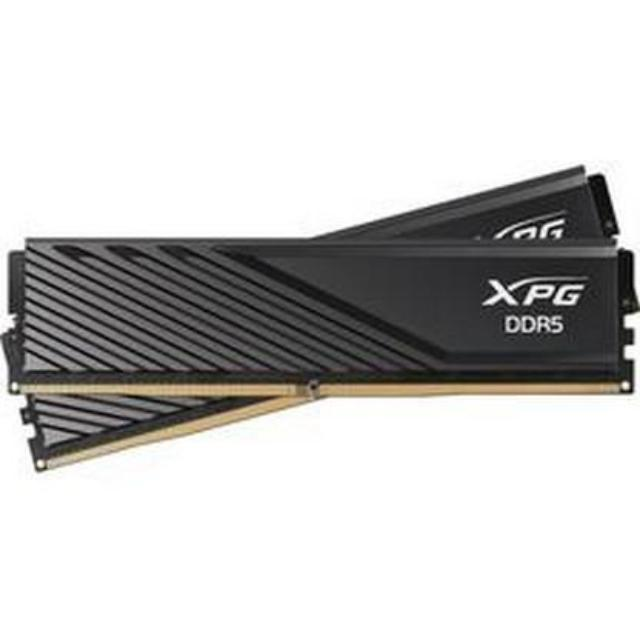RAM: (3, 144, 640, 482)
